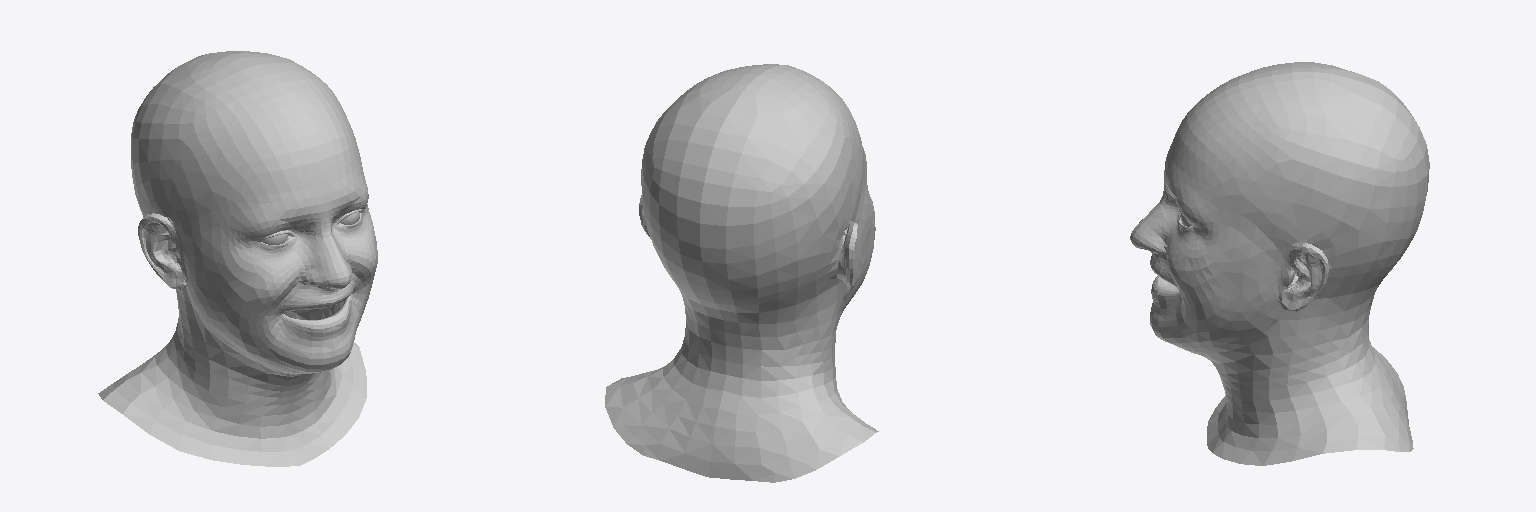
The model's file is 00018_w_HIFI3D_UV_simply_handle_eyeballs.obj.
3 renders of one model, left to right at view 1: azimuth 30°, elevation 25°; view 2: azimuth 150°, elevation 25°; view 3: azimuth 270°, elevation 25°, orthographic.
Bounding box in the file's own units: 0.2228 × 0.3154 × 0.2317.